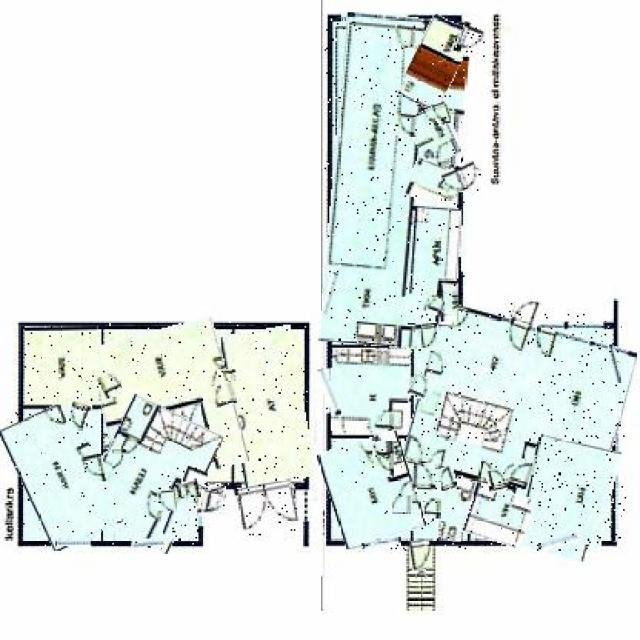door: (237, 481, 297, 537), (505, 297, 540, 358), (442, 163, 480, 194), (456, 23, 484, 57), (210, 382, 242, 408), (199, 489, 226, 518), (374, 440, 394, 477), (80, 455, 106, 483), (69, 400, 91, 431), (97, 371, 123, 397), (205, 483, 229, 511), (412, 463, 436, 491), (511, 458, 532, 489), (417, 323, 440, 351), (411, 375, 435, 400), (411, 538, 429, 571), (396, 24, 416, 48), (397, 115, 417, 137), (437, 468, 457, 489), (183, 478, 202, 500), (157, 491, 177, 511), (424, 498, 444, 518), (394, 495, 415, 514), (488, 469, 506, 491), (434, 103, 451, 126), (114, 449, 129, 474), (434, 143, 449, 166), (380, 412, 398, 430), (428, 297, 443, 315), (175, 483, 191, 499), (217, 371, 238, 383)
window: (320, 368, 338, 417), (538, 532, 578, 550), (323, 272, 337, 316), (362, 538, 400, 551), (132, 538, 165, 550), (611, 344, 620, 384), (56, 537, 92, 546)
zone: (400, 314, 626, 551), (324, 15, 464, 348), (95, 322, 240, 486), (91, 402, 211, 548), (11, 403, 112, 546), (226, 326, 309, 485), (323, 436, 420, 544), (526, 439, 619, 543), (332, 349, 410, 431), (24, 326, 99, 405), (411, 208, 460, 326), (406, 17, 468, 109), (464, 486, 530, 543), (411, 106, 460, 163), (169, 468, 203, 540), (406, 162, 460, 206), (437, 486, 471, 542), (414, 489, 438, 540), (440, 284, 458, 322)
